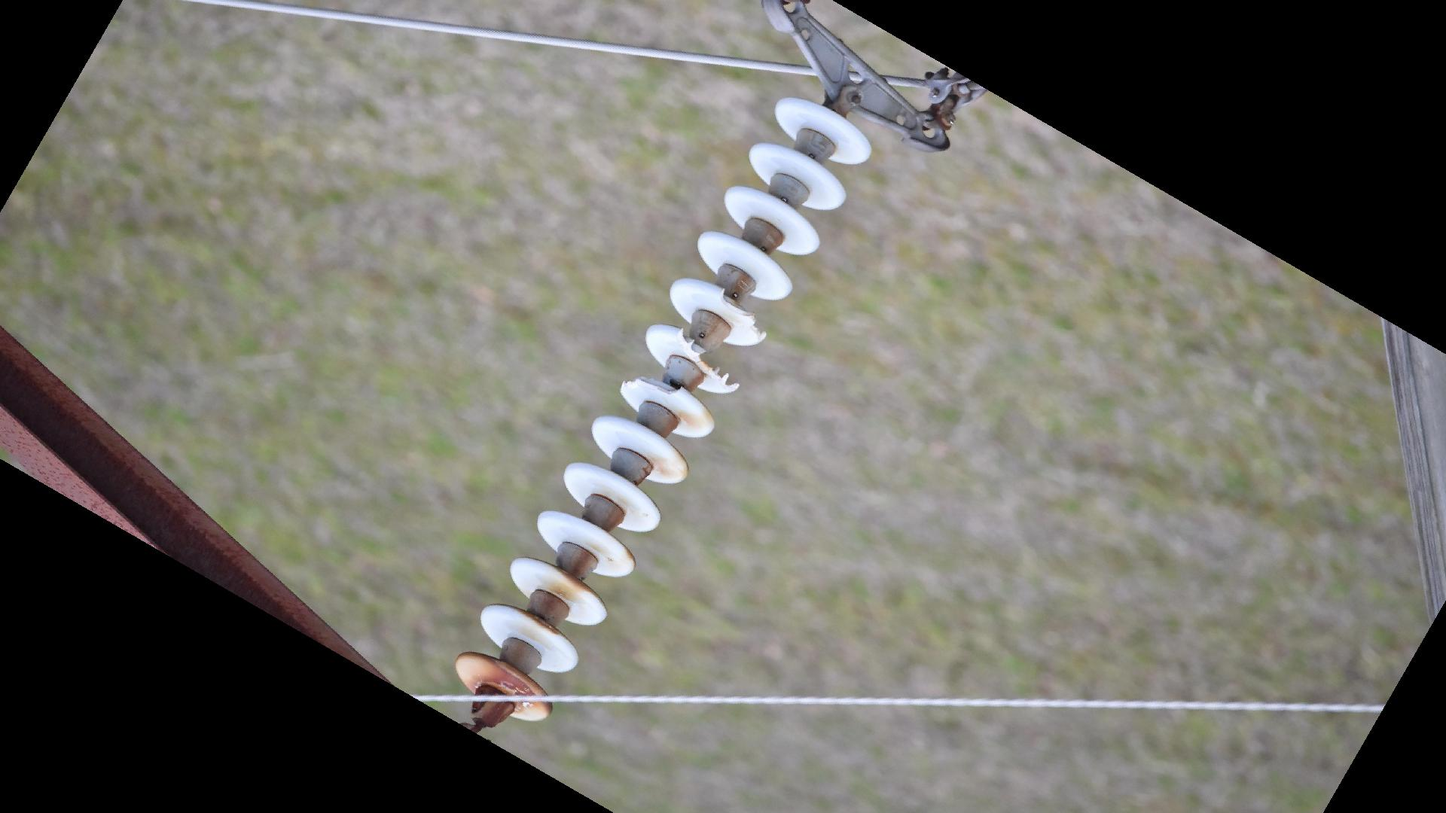insulator: (450, 87, 877, 731)
insulator_breakage: (668, 322, 743, 400), (712, 281, 771, 346), (611, 372, 687, 403)
